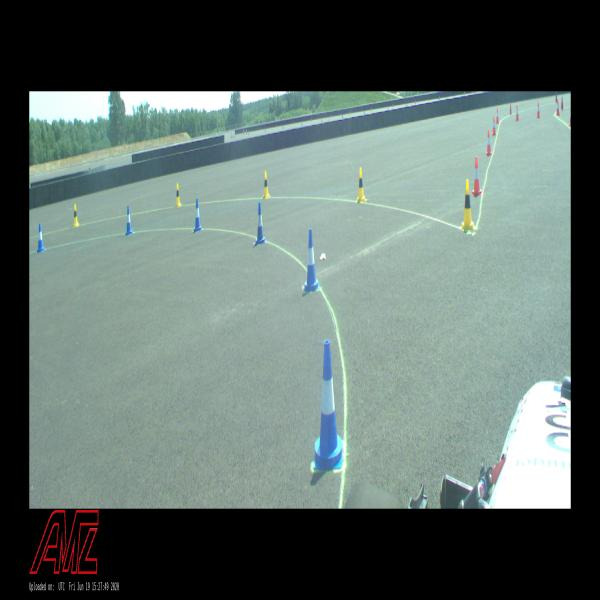blue_cone: (313, 340, 344, 469), (303, 228, 320, 292), (256, 203, 265, 244), (194, 199, 202, 232), (37, 224, 45, 252), (126, 206, 132, 235)
orange_cone: (472, 157, 482, 197), (486, 130, 492, 156), (492, 116, 497, 136), (536, 102, 540, 118), (516, 105, 520, 121), (556, 100, 560, 115), (496, 108, 499, 124), (568, 109, 570, 126), (510, 103, 512, 115)
yellow_cone: (461, 180, 474, 231), (357, 168, 365, 202), (263, 172, 270, 198), (73, 204, 79, 226), (176, 183, 181, 206)
